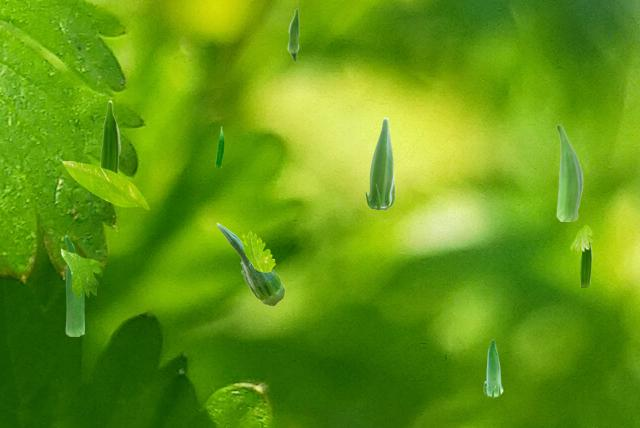okra: (216, 222, 284, 305), (365, 117, 394, 209), (556, 124, 582, 220), (65, 235, 83, 335), (100, 100, 119, 173), (483, 339, 502, 396), (287, 8, 298, 61), (580, 244, 591, 286), (215, 126, 223, 166)
